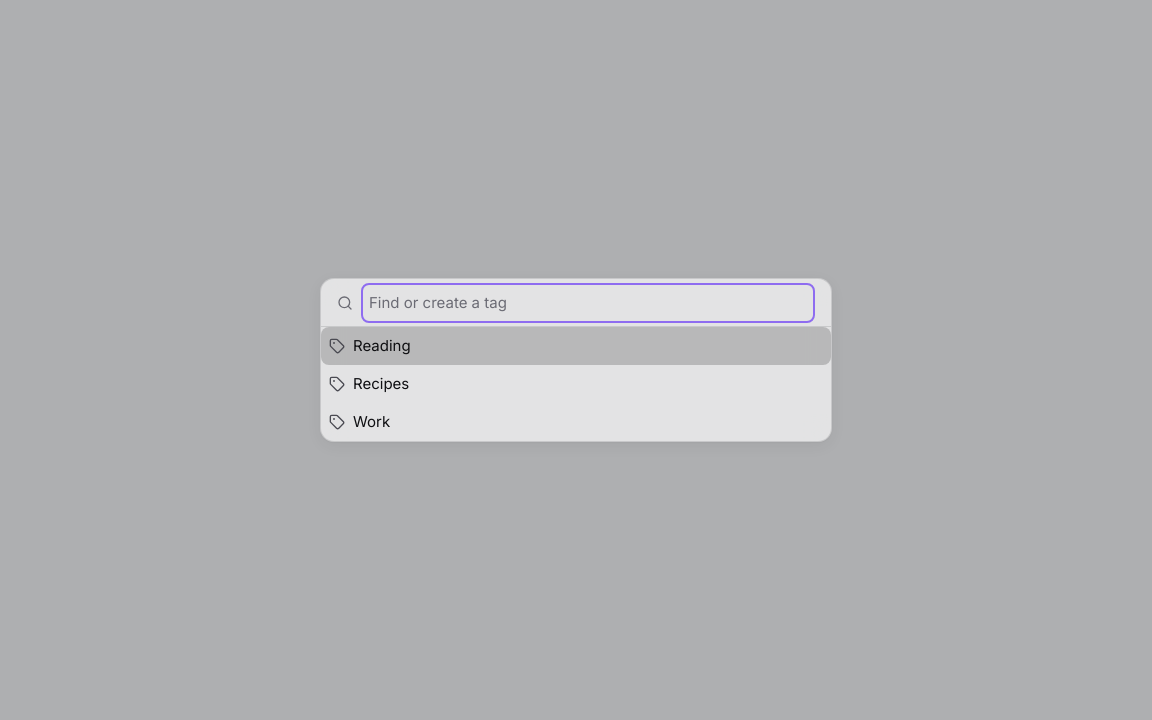
Test: TagPickerDialog › filters as you type and offers to create a new tag
Type "rec" into the dropdown with placeholder "Find or create a tag" at {"x": 588, "y": 302}, box [361, 282, 815, 322]
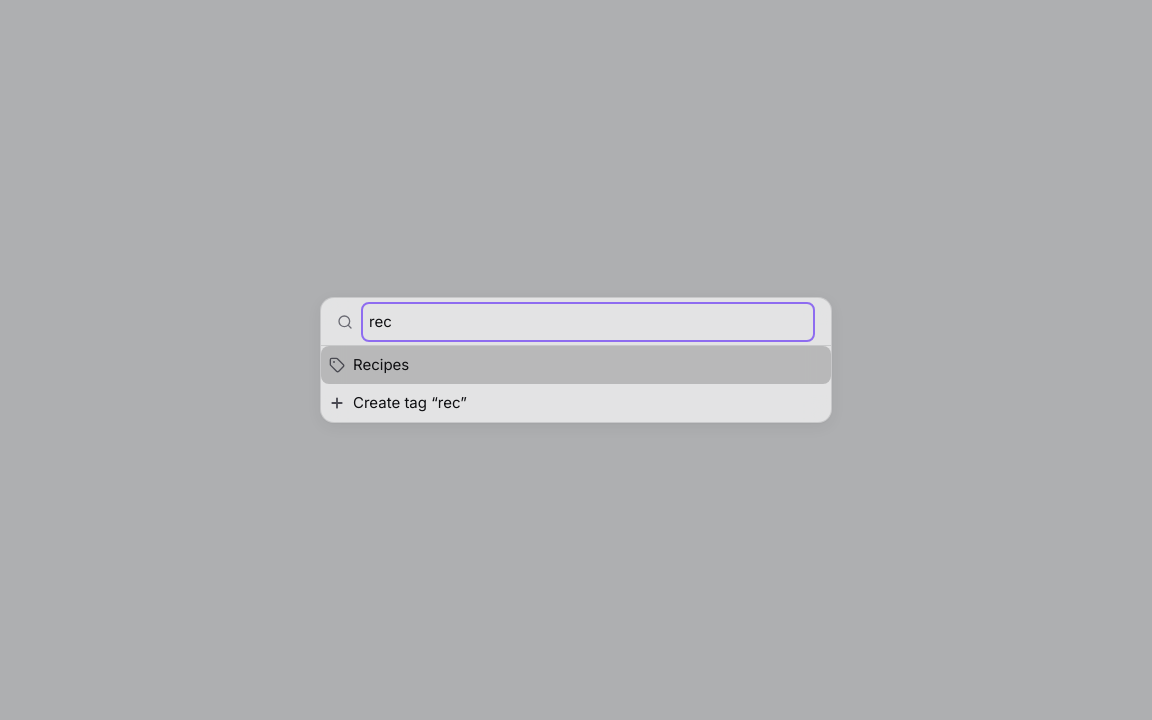
Check: the option "Recipes" is shown, box [321, 346, 831, 384]
Check: the option "Work" is gone
Check: the option "Create tag “rec”" is shown, box [329, 393, 467, 412]
